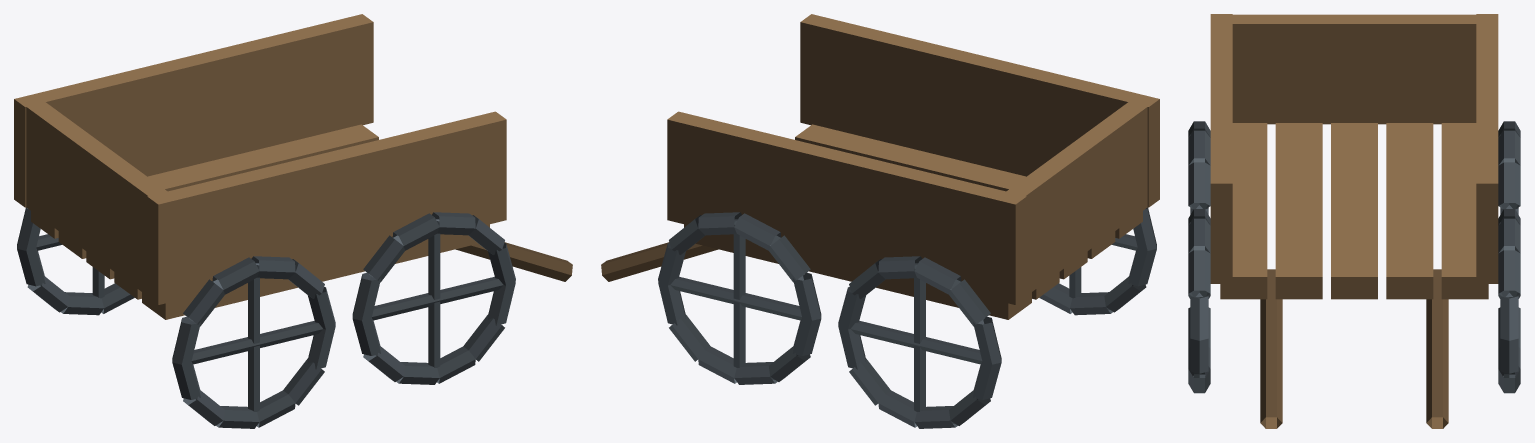
3 views of the same model, side by side, from view 1: azimuth 30°, elevation 25°; view 2: azimuth 150°, elevation 25°; view 3: azimuth 270°, elevation 25° (orthographic).
Parts seen in each view (by area): view 1: 477d90cdce3f46aaae82dbfd5180619c34807cf6d80b2732da8b8e819f29; view 2: 477d90cdce3f46aaae82dbfd5180619c34807cf6d80b2732da8b8e819f29; view 3: 477d90cdce3f46aaae82dbfd5180619c34807cf6d80b2732da8b8e819f29.
Boxes of the visible parts, box(x1,y1,x2,y2) form: 477d90cdce3f46aaae82dbfd5180619c34807cf6d80b2732da8b8e819f29: box(14, 14, 572, 428); 477d90cdce3f46aaae82dbfd5180619c34807cf6d80b2732da8b8e819f29: box(601, 14, 1159, 428); 477d90cdce3f46aaae82dbfd5180619c34807cf6d80b2732da8b8e819f29: box(1188, 14, 1520, 428).
Bounding box in the file's own units: 1.84 × 0.9535 × 1.2.
1 material, 1 textured.
